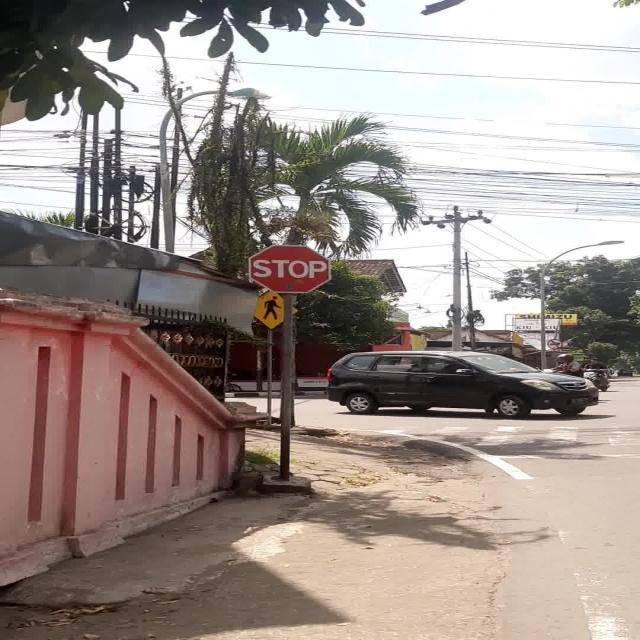Berhenti: (248, 244, 332, 294)
